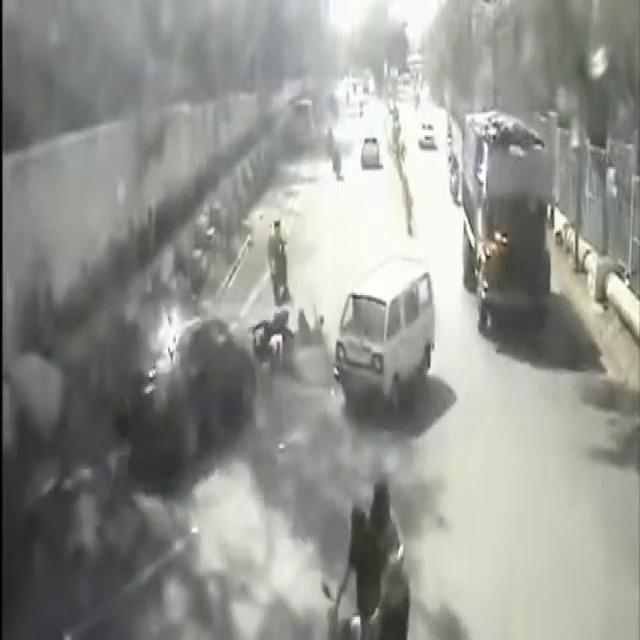accident: (237, 280, 335, 407)
